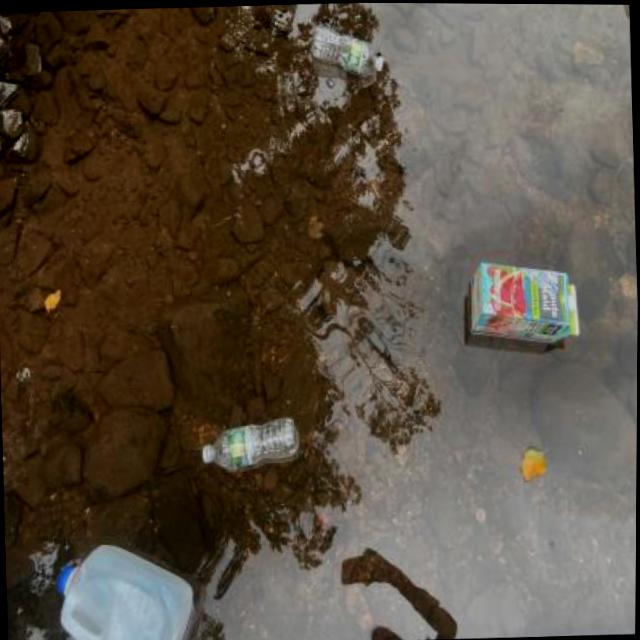Cardboard: (450, 248, 587, 353)
Plastic: (38, 534, 204, 640), (185, 404, 305, 479), (296, 14, 390, 81)
